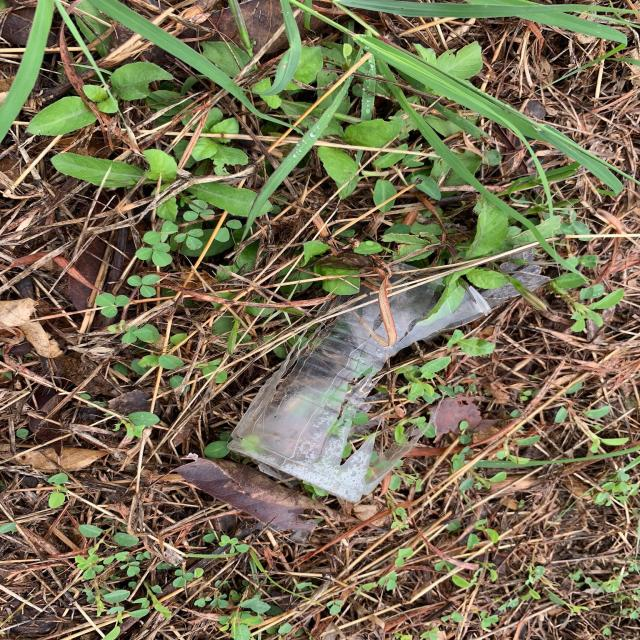litter: (225, 263, 547, 508)
